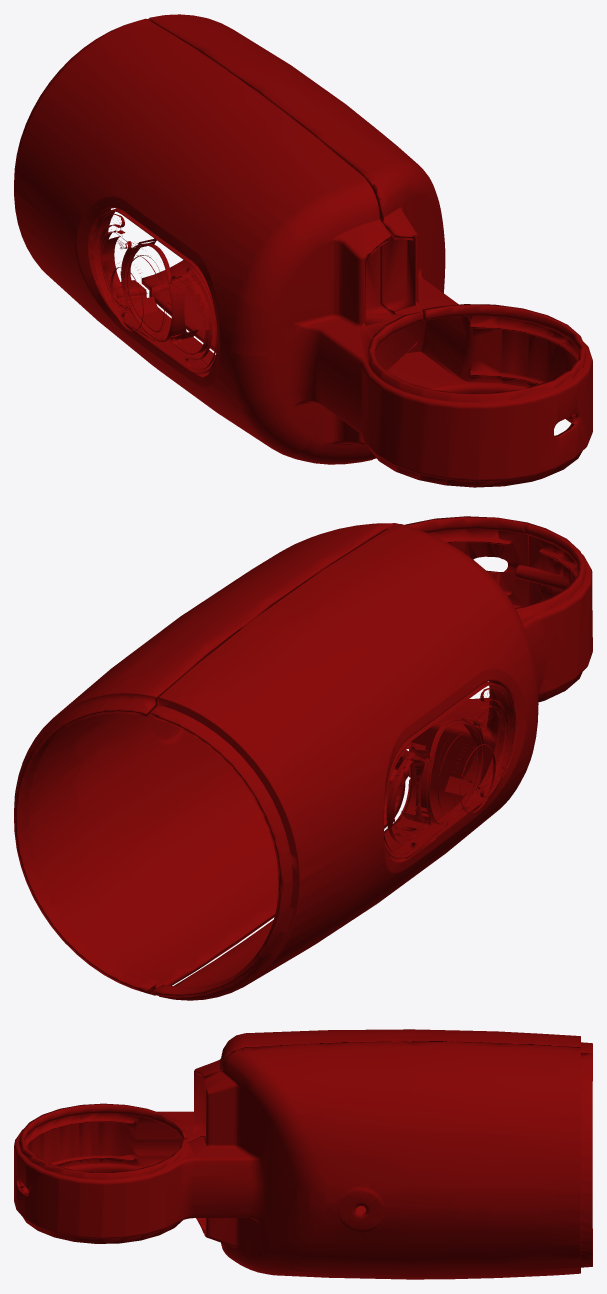
The picture shows the model from 3 angles, top to bottom: view 1: azimuth 30°, elevation 25°; view 2: azimuth 150°, elevation 25°; view 3: azimuth 270°, elevation 25°; orthographic projection. The views are drawn at different scales.
Bounding box in the file's own units: 0.1581 × 0.1483 × 0.3418.
